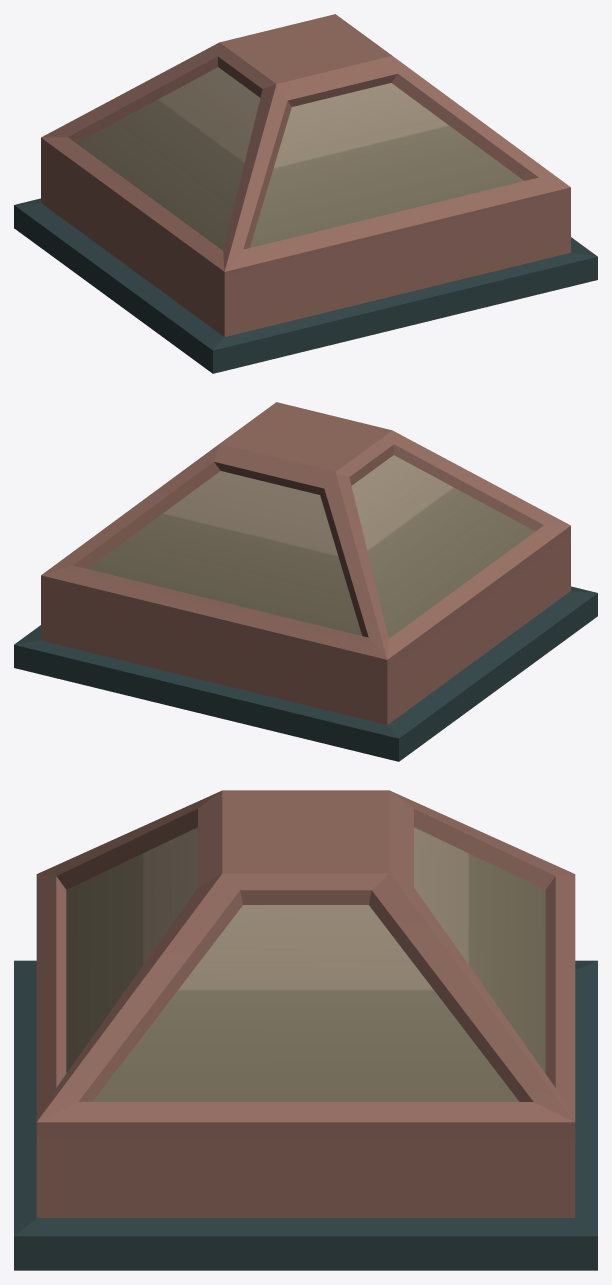
The model's file is RoofLights_3_C.fbx.
3 views of the same model, one above another, from view 1: azimuth 30°, elevation 25°; view 2: azimuth 150°, elevation 25°; view 3: azimuth 270°, elevation 25° (orthographic). The views are drawn at different scales.
Visible parts, largest first — view 1: RoofLights_3_C; view 2: RoofLights_3_C; view 3: RoofLights_3_C.
Boxes of the visible parts, x1,y1,x2,y2 form: RoofLights_3_C: (14,14,597,373); RoofLights_3_C: (14,402,597,761); RoofLights_3_C: (14,790,597,1270).
Bounding box in the file's own units: 73.17 × 37.23 × 65.51.
